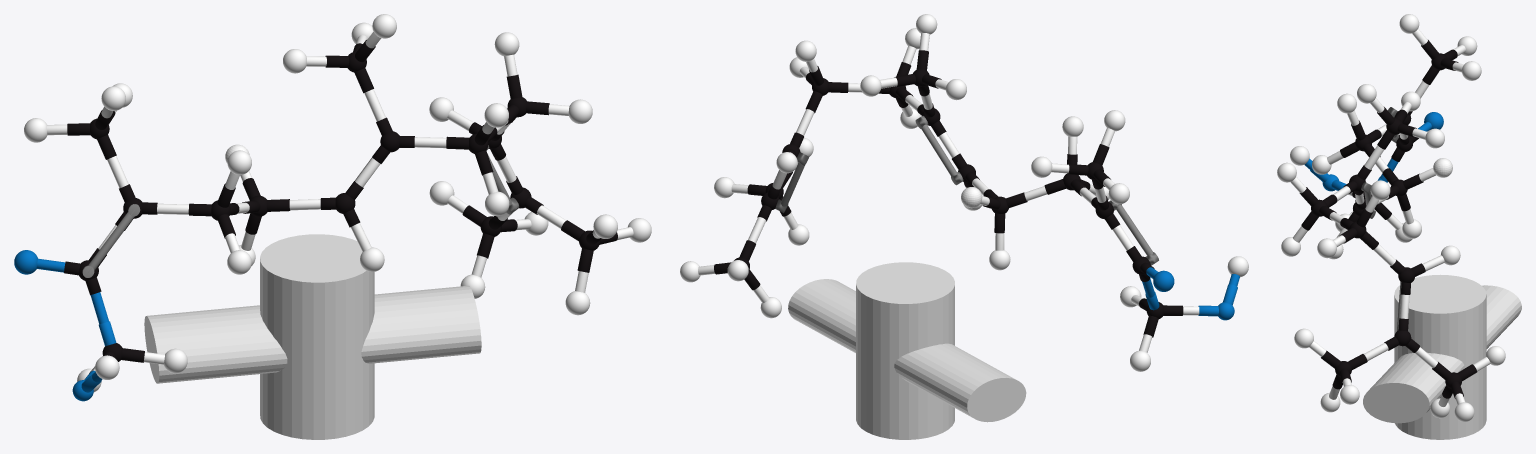
File: Farnesol.dae
3 renders of one model, left to right at view 1: azimuth 30°, elevation 25°; view 2: azimuth 150°, elevation 25°; view 3: azimuth 270°, elevation 25°, orthographic. The views are drawn at different scales.
Visible parts, largest first — view 1: Cylinder, Cylinder_001, Liaison_double_002; view 2: Cylinder, Cylinder_001, Liaison_double, Liaison_double_002, Liaison_double_001; view 3: Cylinder, Cylinder_001, Hydrogène_014, Hydrogène_005, Hydrogène_010, Hydrogène_011, Hydrogène_001, Hydrogène_002, Hydrogène_004, Hydrogène_024, Hydrogène_008, Hydrogène_027 (+13 smaller).
Part boxes in pixels (x1,y1,x2,y2): Cylinder: (260,234,374,439); Cylinder_001: (144,285,481,383); Liaison_double_002: (82,204,140,277); Cylinder: (856,262,954,439); Cylinder_001: (788,279,1026,422); Liaison_double: (915,116,963,185); Liaison_double_002: (1109,200,1158,265); Liaison_double_001: (775,152,808,213); Cylinder: (1394,274,1486,439); Cylinder_001: (1363,285,1521,423); Hydrogène_014: (1454,402,1474,421); Hydrogène_005: (1433,158,1452,177); Hydrogène_010: (1317,238,1336,258); Hydrogène_011: (1370,180,1390,200); Hydrogène_001: (1399,14,1419,33); Hydrogène_002: (1337,93,1356,113); Hydrogène_004: (1425,128,1444,148); Hydrogène_024: (1462,61,1481,80); Hydrogène_008: (1290,146,1309,165); Hydrogène_027: (1340,385,1359,404).
Size of the model in its own units: 11.82 by 5.31 by 8.24.
